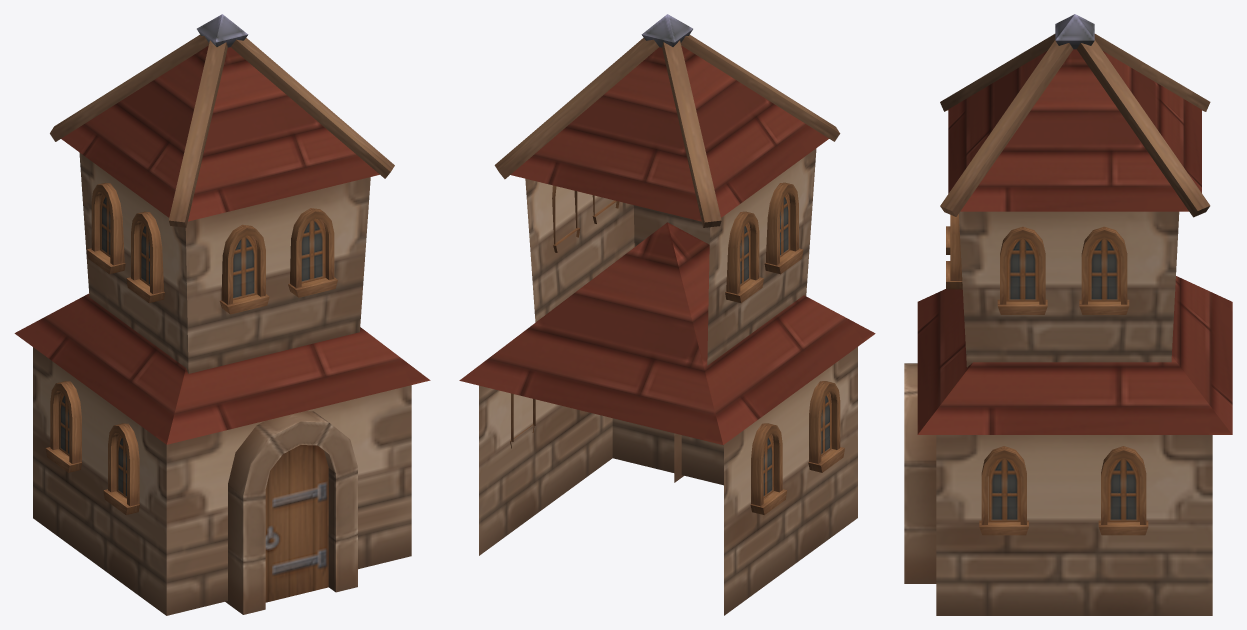
File: mine_prop_4.FBX
3 renders of one model, left to right at view 1: azimuth 30°, elevation 25°; view 2: azimuth 150°, elevation 25°; view 3: azimuth 270°, elevation 25°, orthographic. The views are drawn at different scales.
Parts seen in each view (by area): view 1: Object425; view 2: Object425; view 3: Object425.
Boxes of the visible parts, x1,y1,x2,y2 form: Object425: (14, 14, 430, 615); Object425: (459, 14, 875, 615); Object425: (904, 14, 1232, 615).
Bounding box in the file's own units: 88.85 × 165 × 90.5.
